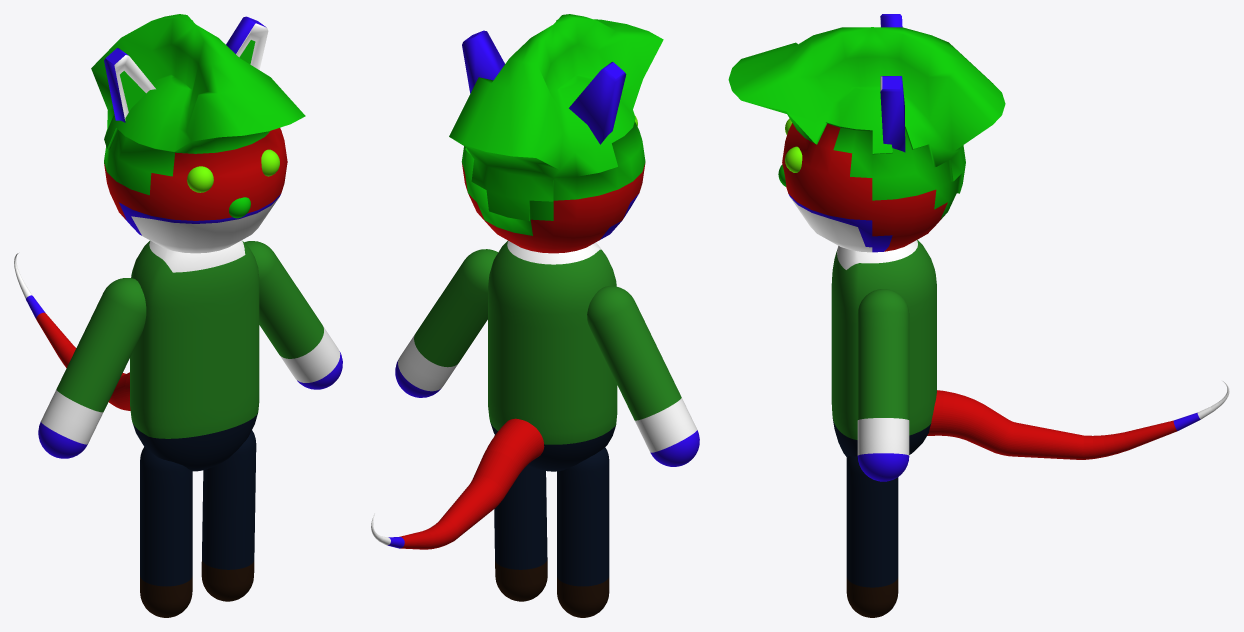
File: folf.fbx
3 renders of one model, left to right at view 1: azimuth 30°, elevation 25°; view 2: azimuth 150°, elevation 25°; view 3: azimuth 270°, elevation 25°, orthographic.
Visible parts, largest first — view 1: head, body, larm, lleg, rleg, rarm, Cube, tail, eyes; view 2: head, body, larm, lleg, rarm, tail, rleg, Cube; view 3: head, body, rarm, tail, rleg, Cube.
Boxes of the visible parts, x1=… form: head: x1=91, y1=14, x2=305, y2=253; body: x1=130, y1=240, x2=259, y2=471; larm: x1=38, y1=278, x2=146, y2=458; lleg: x1=140, y1=447, x2=192, y2=617; rleg: x1=201, y1=430, x2=256, y2=601; rarm: x1=244, y1=241, x2=342, y2=389; Cube: x1=104, y1=16, x2=268, y2=122; tail: x1=14, y1=253, x2=130, y2=410; eyes: x1=187, y1=149, x2=279, y2=192; head: x1=449, y1=14, x2=663, y2=253; body: x1=488, y1=240, x2=617, y2=471; larm: x1=587, y1=286, x2=699, y2=466; lleg: x1=557, y1=447, x2=609, y2=617; rarm: x1=395, y1=249, x2=498, y2=397; tail: x1=371, y1=418, x2=544, y2=549; rleg: x1=494, y1=435, x2=547, y2=601; Cube: x1=462, y1=30, x2=626, y2=144; head: x1=728, y1=27, x2=1005, y2=252; body: x1=831, y1=239, x2=936, y2=457; rarm: x1=857, y1=289, x2=909, y2=481; tail: x1=927, y1=380, x2=1229, y2=459; rleg: x1=846, y1=456, x2=898, y2=617; Cube: x1=880, y1=14, x2=905, y2=152.
Bounding box in the file's own units: 262 × 491 × 388.
